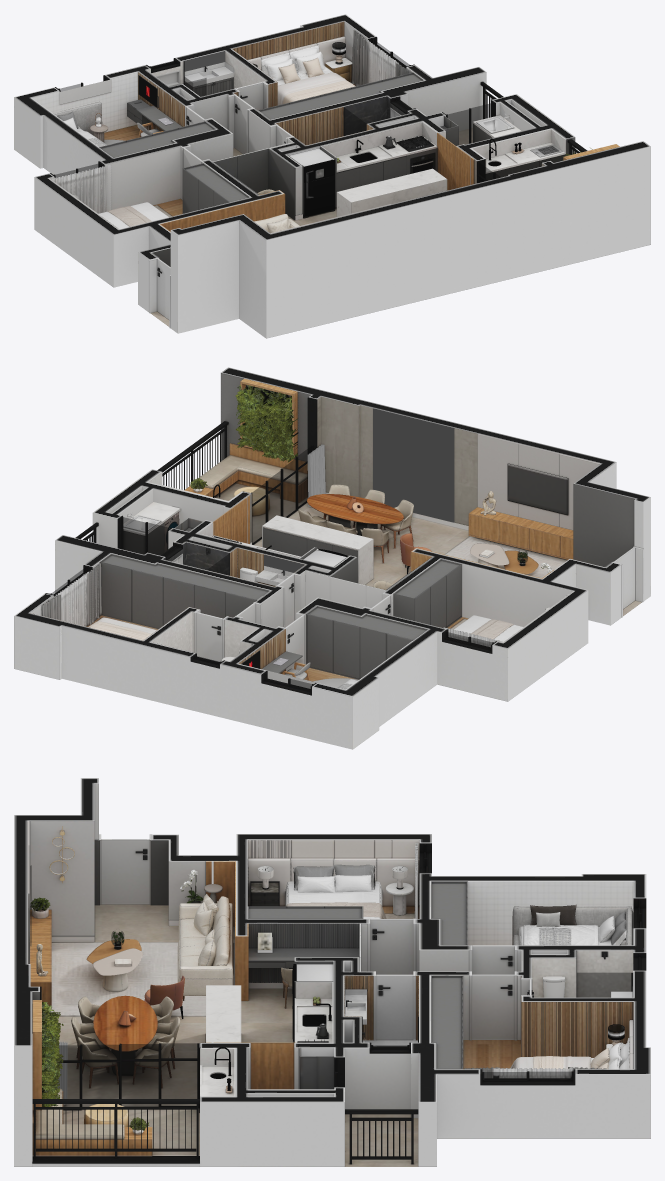
3 renders of one model, top to bottom at view 1: azimuth 30°, elevation 25°; view 2: azimuth 150°, elevation 25°; view 3: azimuth 270°, elevation 25°, orthographic. The views are drawn at different scales.
Parts seen in each view (by area): view 1: SynodeGroup_0; view 2: SynodeGroup_0; view 3: SynodeGroup_0.
Boxes of the visible parts, box(x1,y1,x2,y2) form: SynodeGroup_0: box(14, 14, 650, 338); SynodeGroup_0: box(14, 367, 650, 749); SynodeGroup_0: box(14, 778, 650, 1166).
Size of the model in its own units: 10.72 by 2.3 by 10.74.
9 materials, 4 textured.
